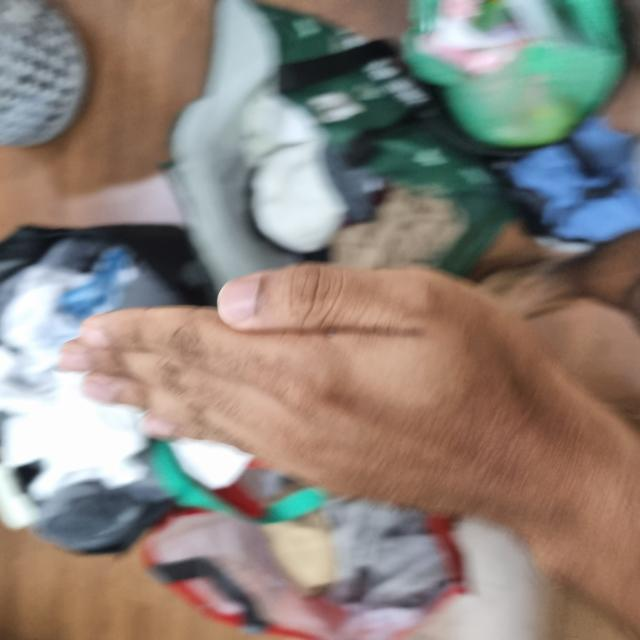Paper: (123, 0, 640, 566)
